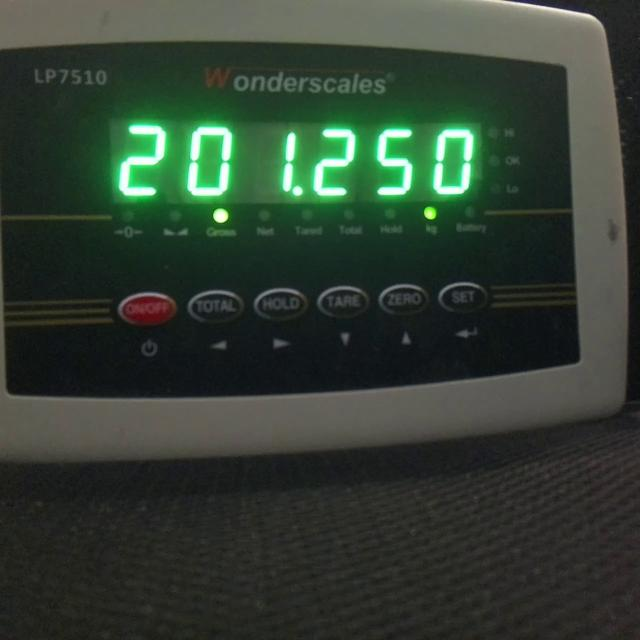.: (292, 186, 304, 197)
0: (185, 126, 232, 197), (433, 128, 475, 195)
1: (281, 132, 298, 194)
2: (118, 123, 166, 197), (311, 128, 354, 197)
5: (374, 127, 414, 196)
